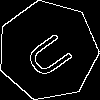U: (23, 25, 82, 82)
